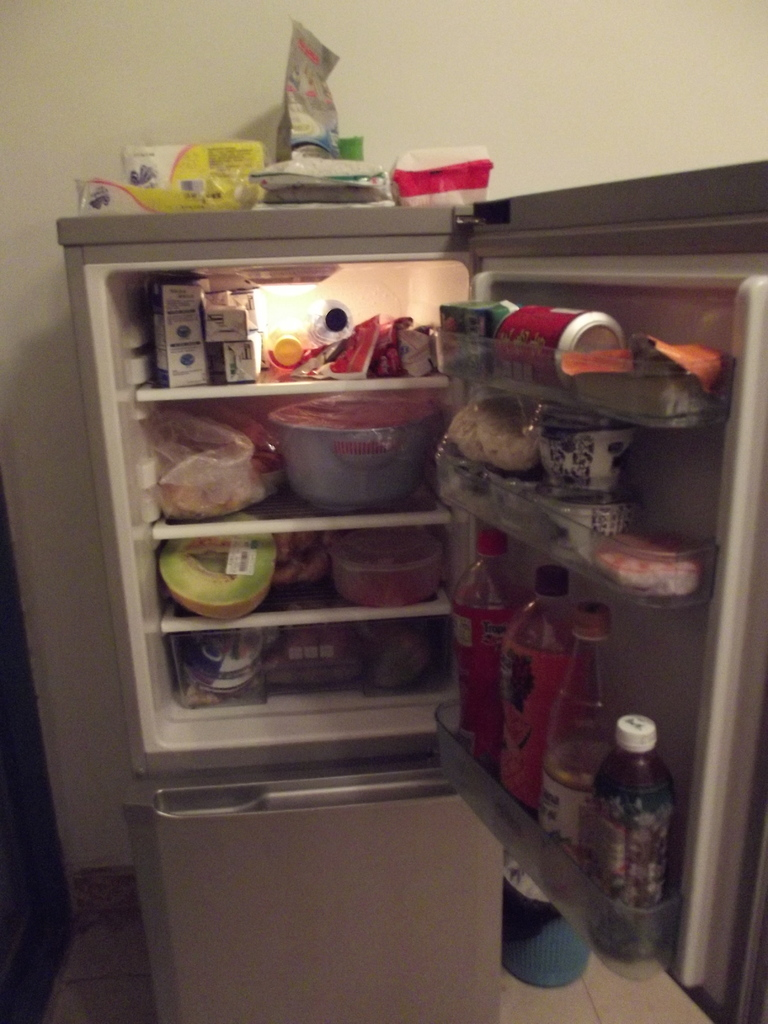handle: (148, 774, 265, 831)
refrigerator door: (496, 253, 768, 932), (141, 771, 494, 1015)
